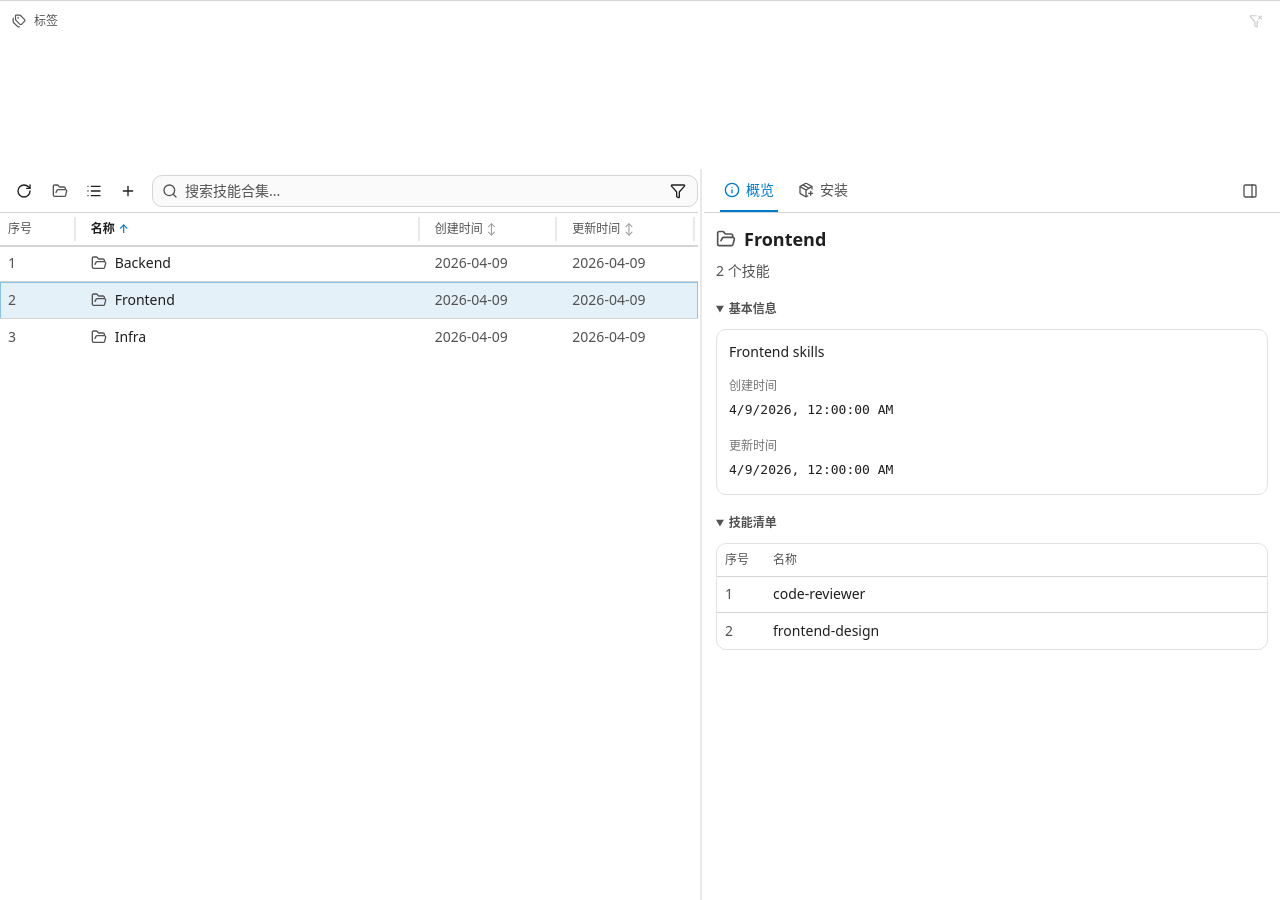
Test: CollectionsListView › opens the install dialog with Shared Hub and every target unchecked
Press + in the element named "技能列表", box [0,169,698,355]
Right-click the row "Frontend".
right_click(349, 300)  # box [0,282,698,318]
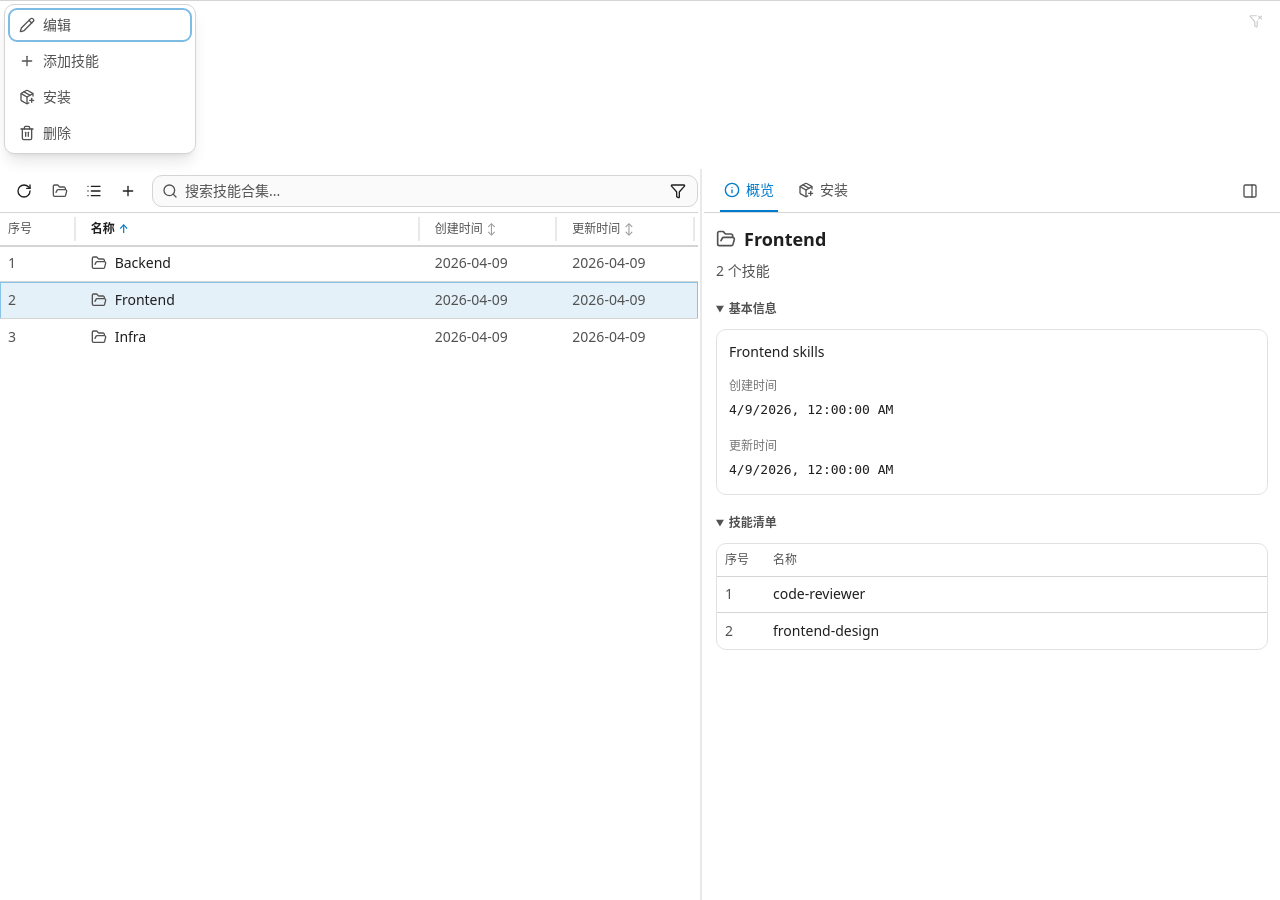
Click the menu item "安装".
click(100, 97)  # box [9,81,191,113]
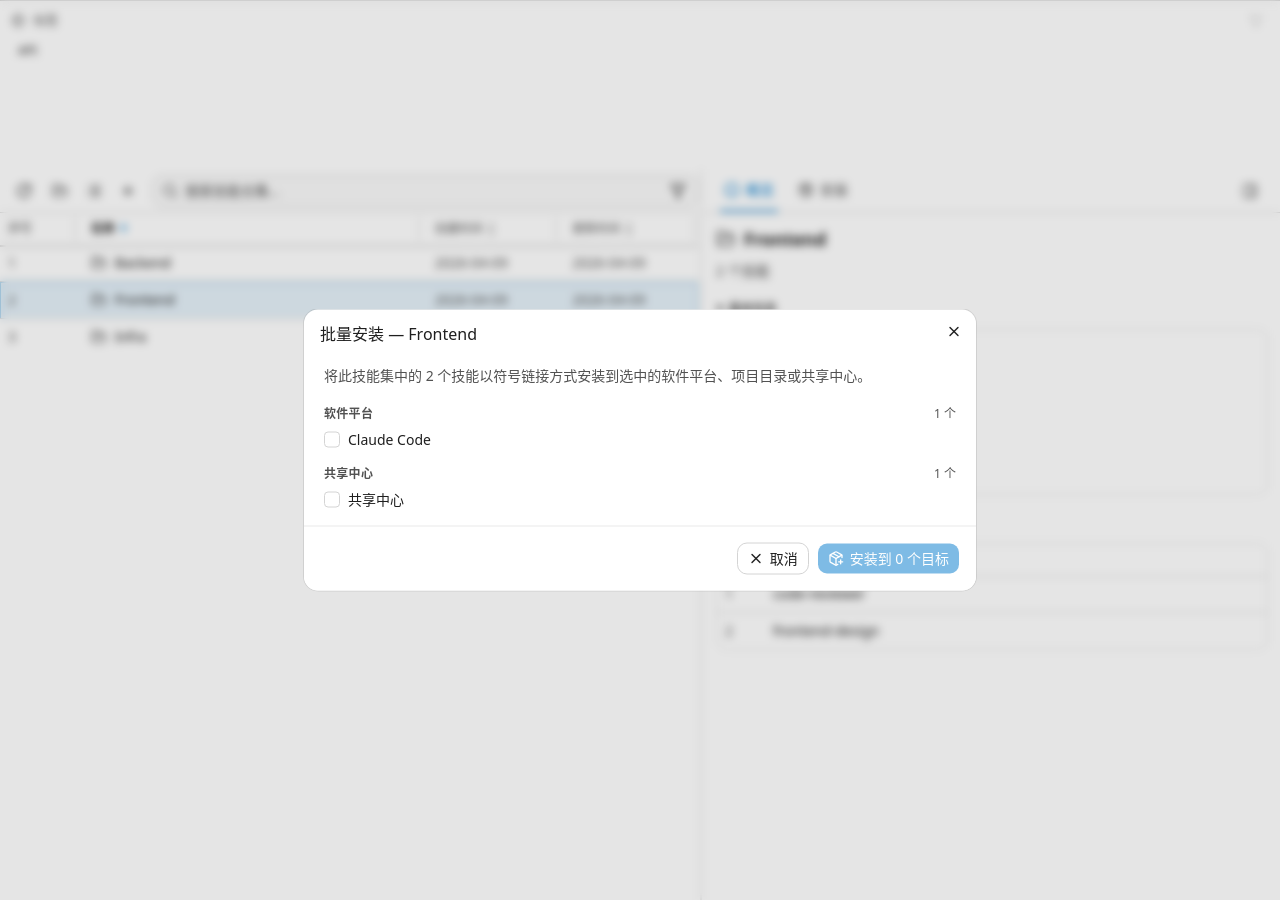
Expected: the heading "共享中心" is shown, [324,466,373,482]
Expected: the checkbox named "Claude Code" is not checked, [324,432,340,448]
Expected: the checkbox named "共享中心" is not checked, [324,492,340,508]
